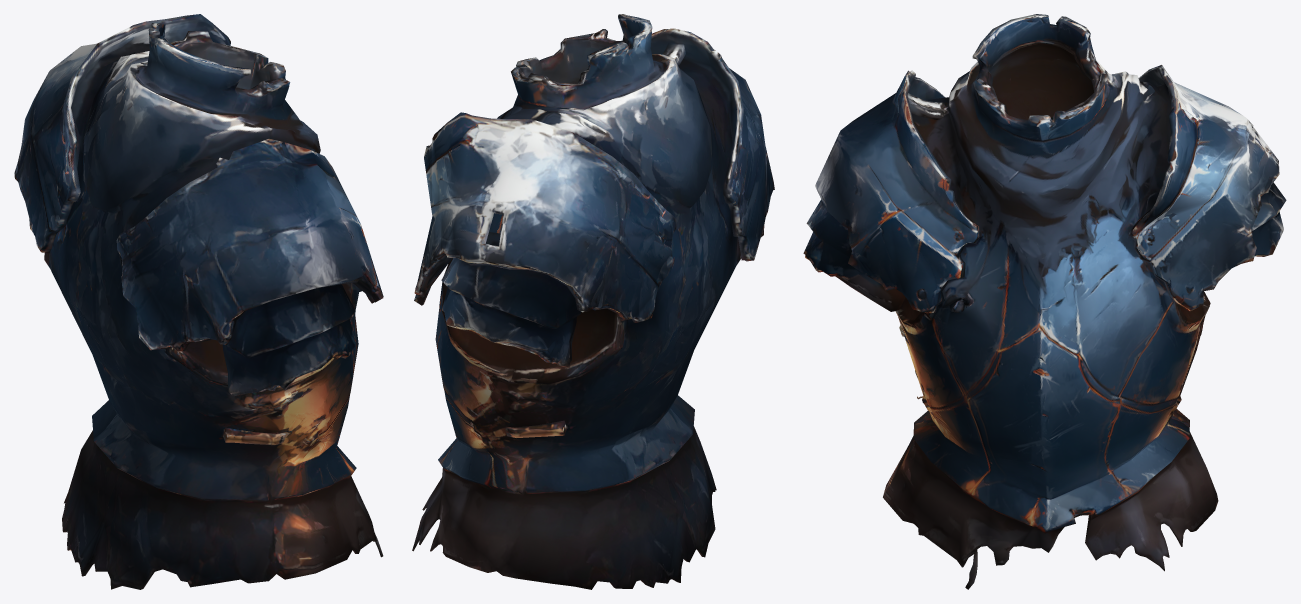
Rendered from chest-slim.glb.
3 views of the same model, side by side, from view 1: azimuth 30°, elevation 25°; view 2: azimuth 150°, elevation 25°; view 3: azimuth 270°, elevation 25° (orthographic). The views are drawn at different scales.
Visible parts, largest first — view 1: tripo_node_a8c69d94-aad9-41bf-b2e1-32d2d475682c; view 2: tripo_node_a8c69d94-aad9-41bf-b2e1-32d2d475682c; view 3: tripo_node_a8c69d94-aad9-41bf-b2e1-32d2d475682c.
Boxes of the visible parts, bbox=[...] form: tripo_node_a8c69d94-aad9-41bf-b2e1-32d2d475682c: bbox=[14, 14, 383, 589]; tripo_node_a8c69d94-aad9-41bf-b2e1-32d2d475682c: bbox=[412, 14, 774, 589]; tripo_node_a8c69d94-aad9-41bf-b2e1-32d2d475682c: bbox=[803, 14, 1286, 589].
Size of the model in its own units: 0.5161 by 0.9995 by 0.8862.
Materials: 1 (1 with a texture image).
